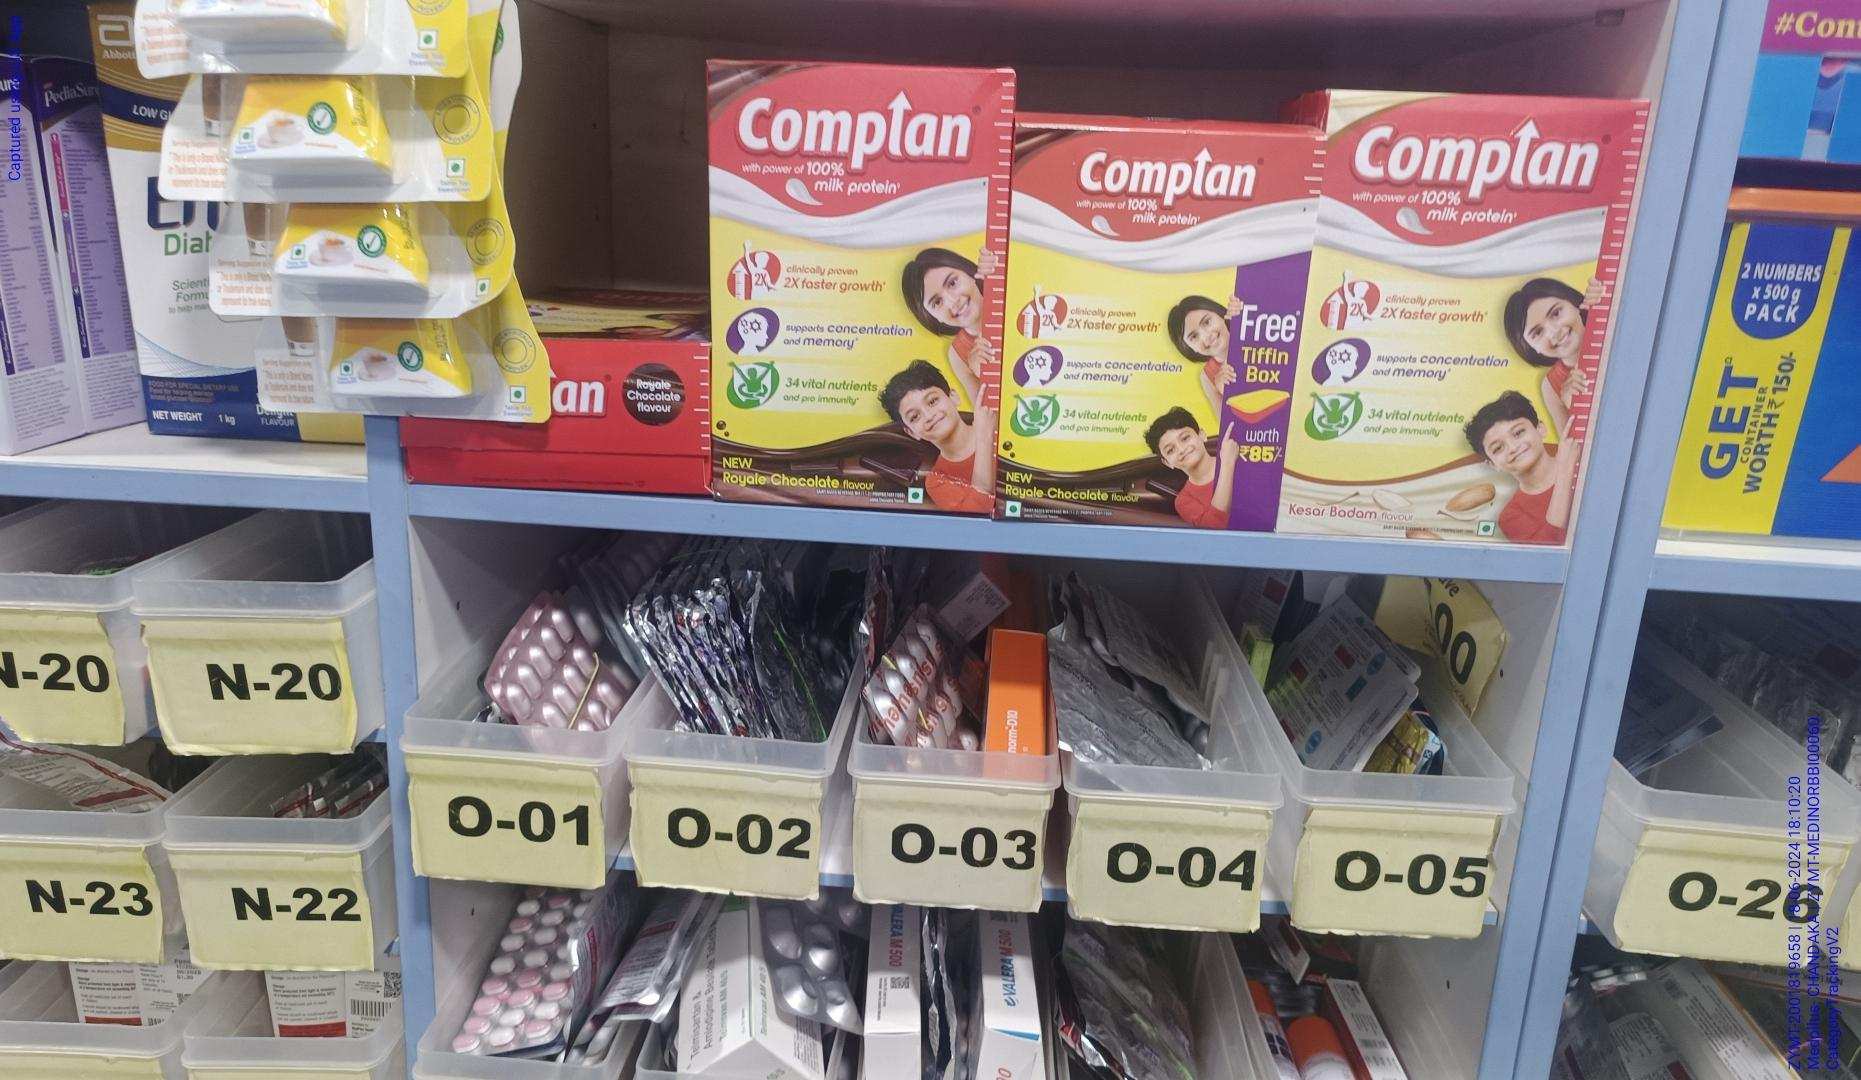COMPLAN_CHOCOLATE_1_KG_PACK: (715, 49, 990, 507)
COMPLAN_CHOCOLATE_500_GMS_PACK: (1005, 123, 1279, 530)
COMPLAN_KESAR_BADAM_500_GMS_PACK: (1310, 81, 1582, 543)
